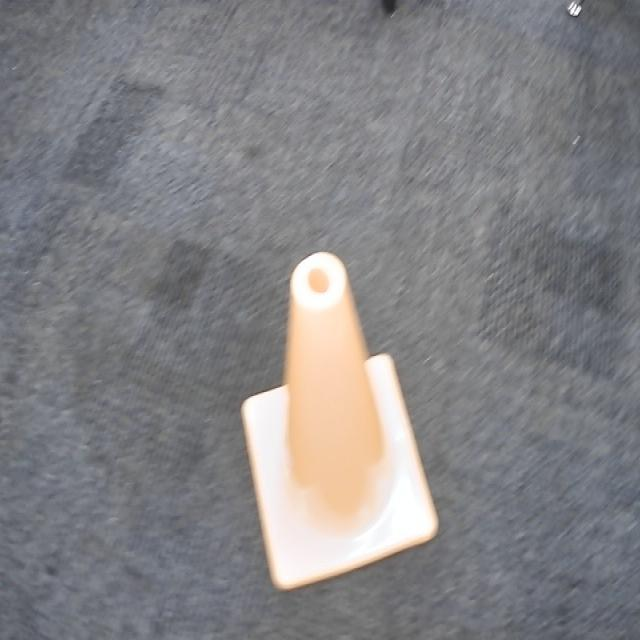cone: (233, 244, 454, 602)
